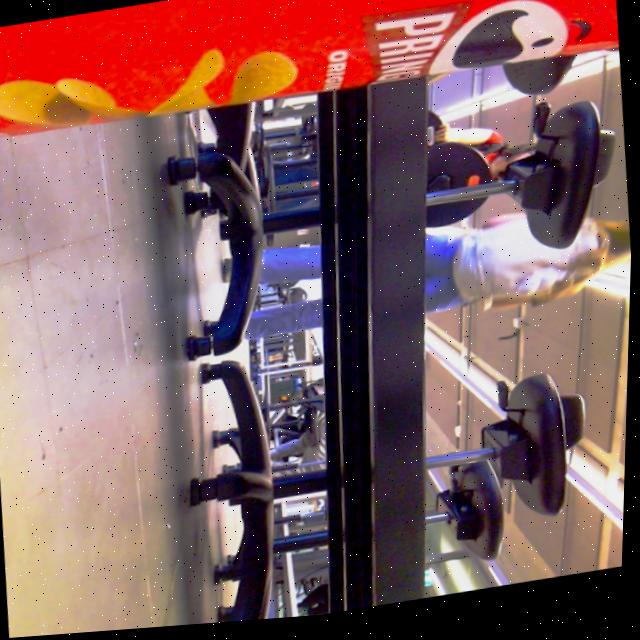redpringles: (0, 0, 624, 178)
